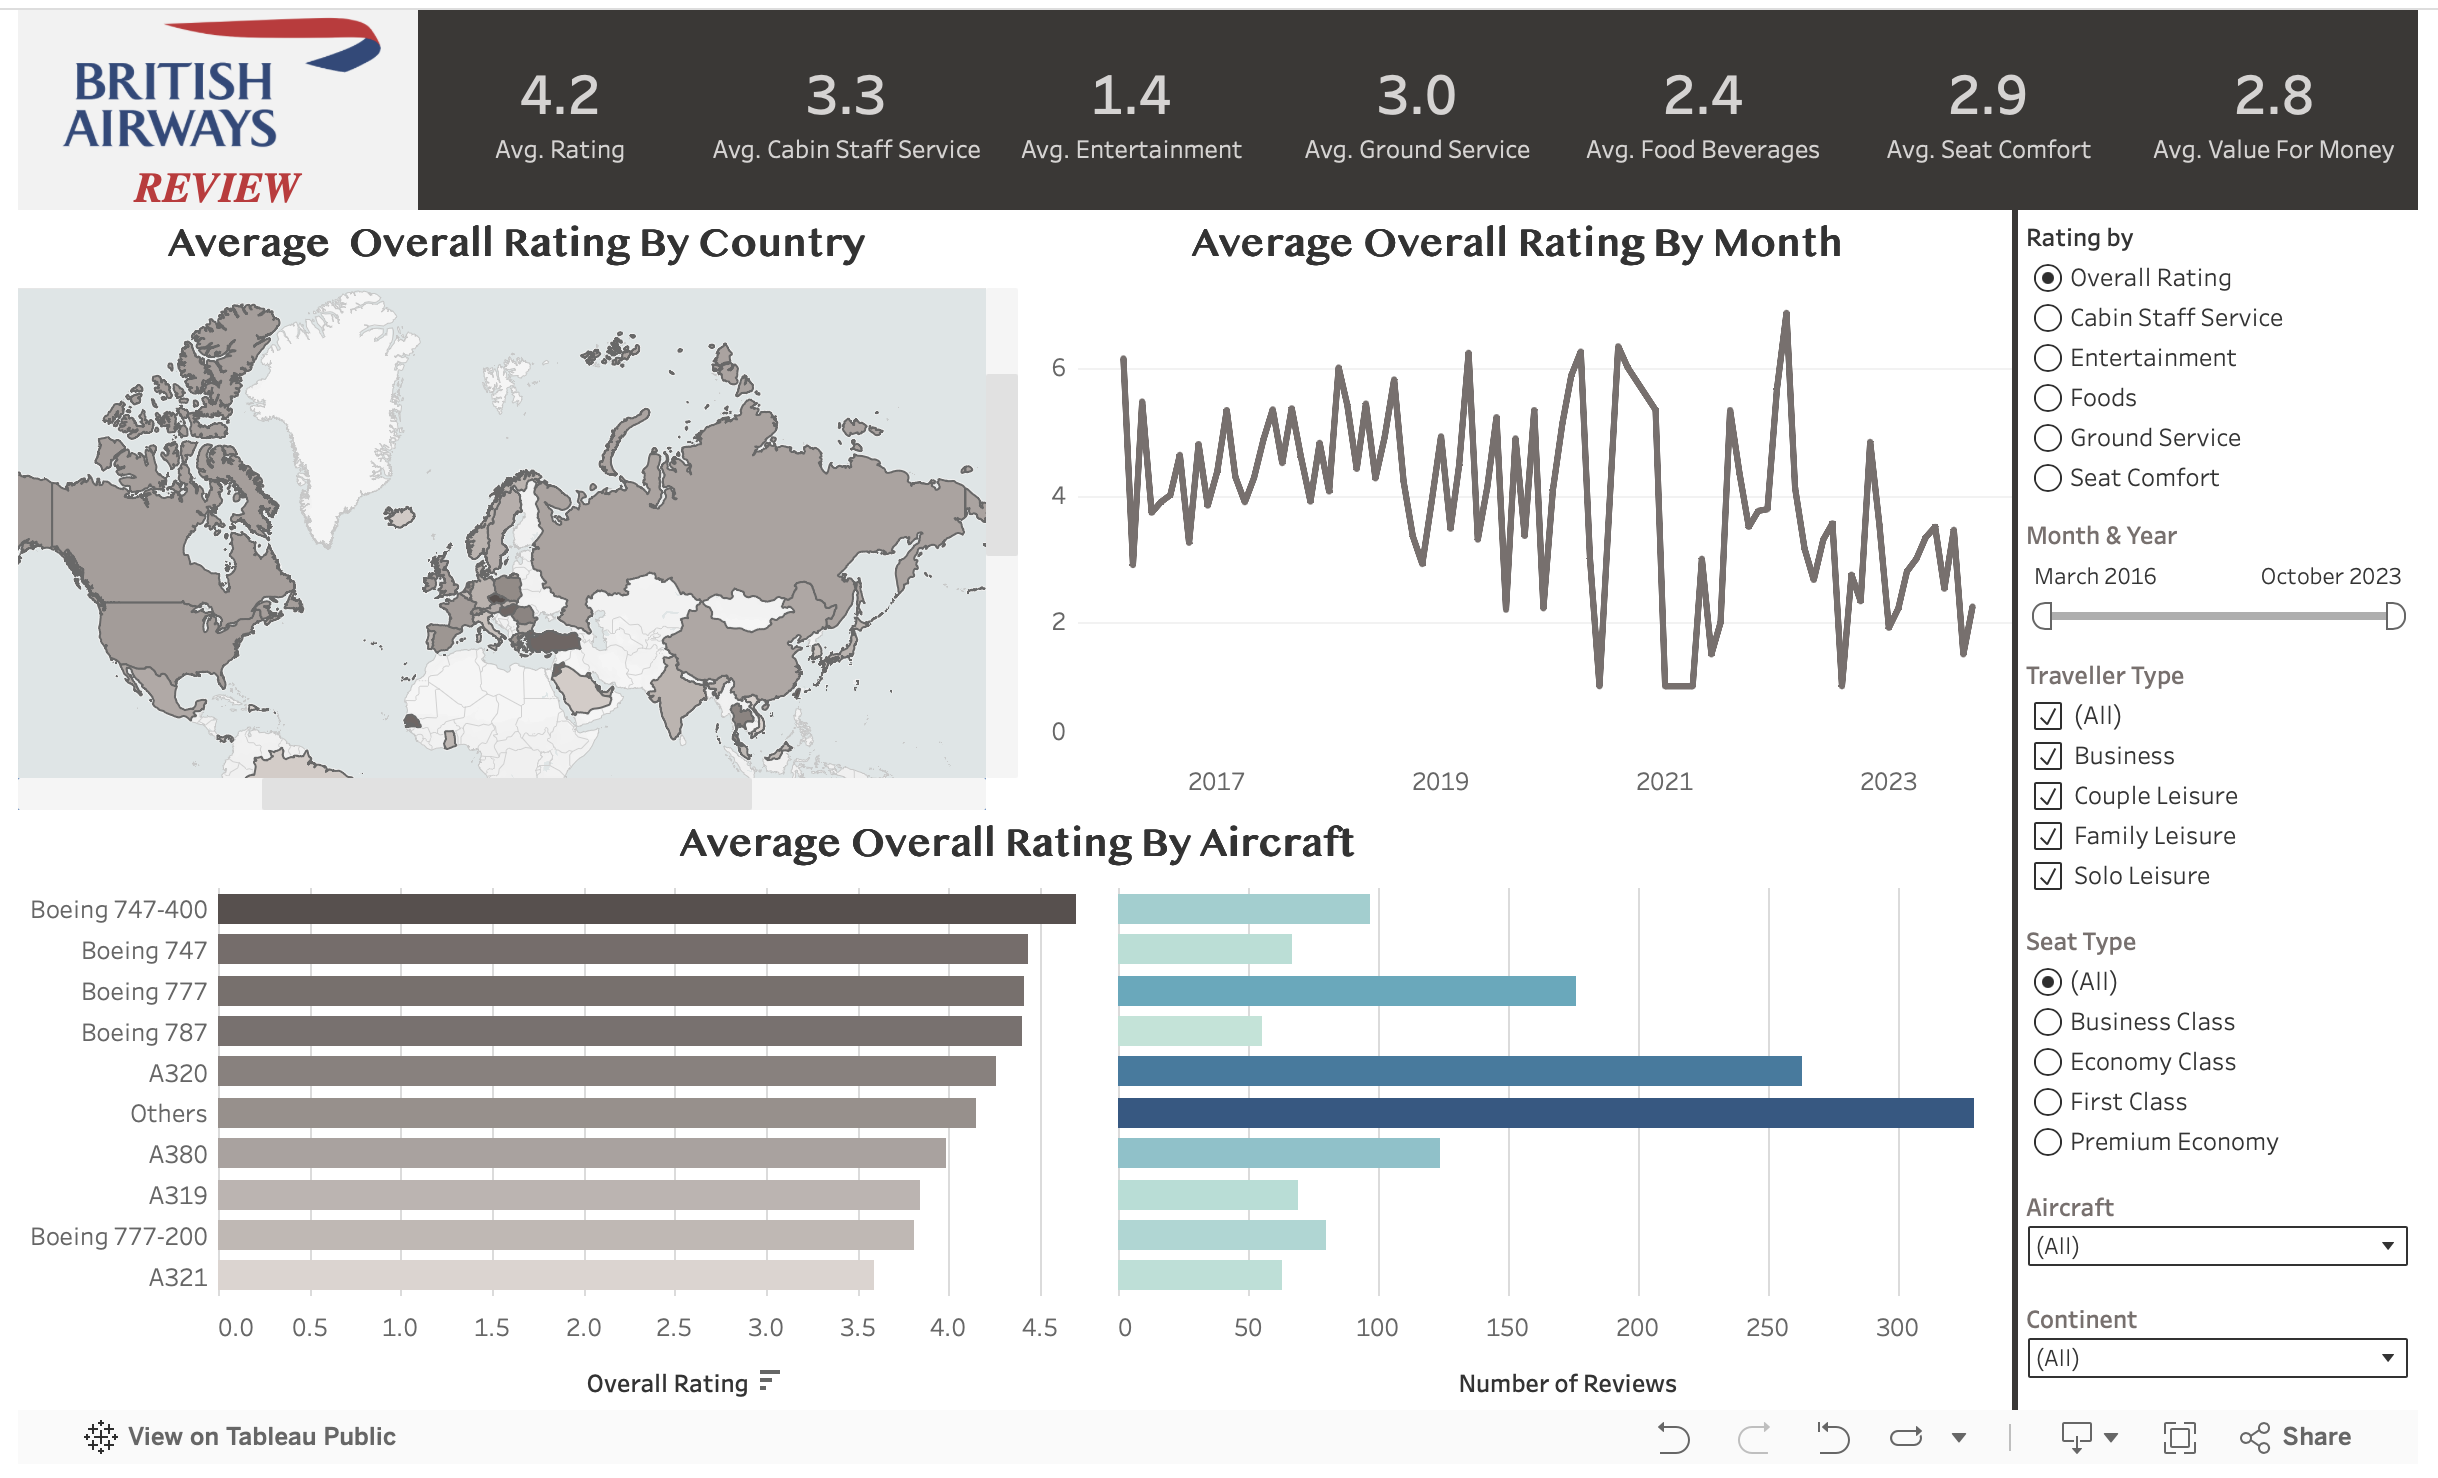

Layout of this report page (visuals, bound fields, positions):
{"tool":"tableau","page":{"name":"Dashboard ","canvas":[1200,700],"ordinal":0},"visuals":[{"type":"blank","box":[0,0,200,100]},{"type":"worksheet","title":"Summary","mark":"Automatic","box":[200,0,1000,100]},{"type":"image","param":"Image/british-airways-01-logo-png-transparent.png","box":[0,1,203,70]},{"type":"text","box":[0,72,200,34]},{"type":"worksheet","title":"MAP","mark":"Automatic","box":[0,100,500,300]},{"type":"worksheet","title":"Month","mark":"Line","rows":["Calculation_1119988950101413888"],"cols":["date"],"box":[500,100,500,300]},{"type":"blank","box":[997,100,3,600]},{"type":"parameter","param":"[Parameters].[Parameter 1]","box":[1000,100,200,165]},{"type":"filter","title":"MAP","param":"[federated.1mpeed90e9arhn133fccj1h8tryo].[tmn:date:qk]","box":[1000,265,200,69]},{"type":"filter","title":"MAP","param":"[federated.1mpeed90e9arhn133fccj1h8tryo].[none:traveller_type:nk]","box":[1000,334,200,127]},{"type":"worksheet","title":"Aircraft","mark":"Automatic","cols":["Calculation_1119988950101413888","ba_reviews.csv_77B1C84285C54925AD9716C043F6E584"],"box":[0,400,1000,300]},{"type":"filter","title":"MAP","param":"[federated.1mpeed90e9arhn133fccj1h8tryo].[none:seat_type:nk]","box":[1000,461,200,127]},{"type":"filter","title":"MAP","param":"[federated.1mpeed90e9arhn133fccj1h8tryo].[Aircraft (group)]","box":[1000,588,200,52]},{"type":"filter","title":"MAP","param":"[federated.1mpeed90e9arhn133fccj1h8tryo].[none:Continent:nk]","box":[1000,640,200,52]}]}

Visuals, with their boxes in screenshot pixels (x1, y1, x2, y2):
blank: <bbox>6, 0, 407, 200</bbox>
"Summary" worksheet: <bbox>407, 0, 2411, 200</bbox>
image: <bbox>6, 2, 413, 142</bbox>
text: <bbox>6, 144, 407, 212</bbox>
"MAP" worksheet: <bbox>6, 200, 1008, 801</bbox>
"Month" worksheet (Line marks): <bbox>1008, 200, 2010, 801</bbox>
blank: <bbox>2004, 200, 2010, 1403</bbox>
parameter: <bbox>2010, 200, 2411, 531</bbox>
"MAP" filter: <bbox>2010, 531, 2411, 669</bbox>
"MAP" filter: <bbox>2010, 669, 2411, 924</bbox>
"Aircraft" worksheet: <bbox>6, 801, 2010, 1403</bbox>
"MAP" filter: <bbox>2010, 924, 2411, 1178</bbox>
"MAP" filter: <bbox>2010, 1178, 2411, 1282</bbox>
"MAP" filter: <bbox>2010, 1282, 2411, 1386</bbox>
